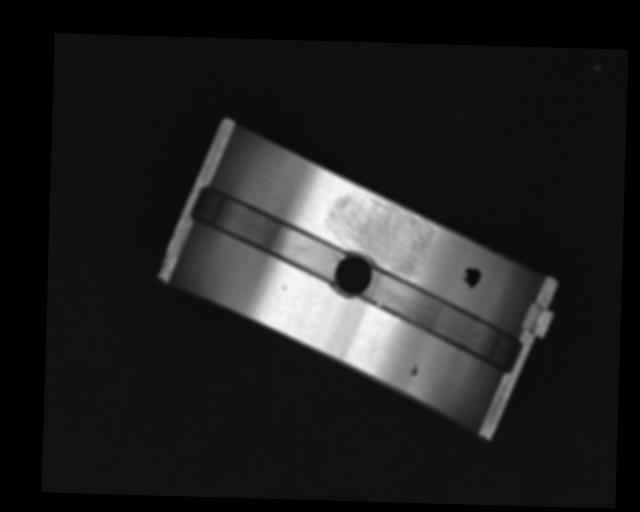blot: (461, 267, 482, 288)
bruise: (409, 362, 420, 378), (282, 285, 287, 291)
gap: (360, 266, 526, 373), (185, 184, 345, 282)
hole: (328, 250, 379, 301)
nick: (373, 317, 400, 352)
scratch: (321, 192, 439, 274)
